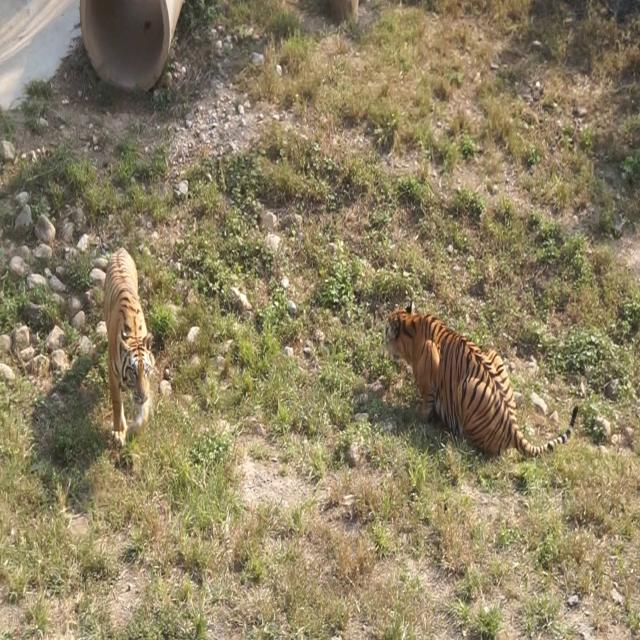Tiger: (384, 298, 580, 458), (90, 233, 176, 474)
